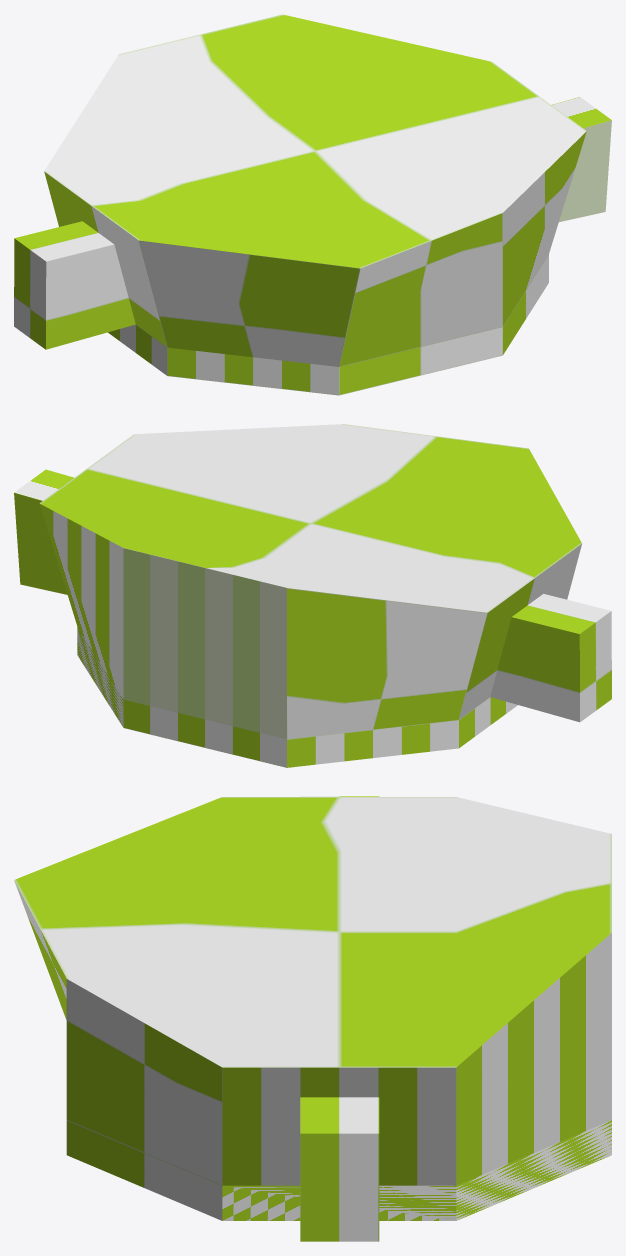
File: Sewer_3.fbx
3 views of the same model, one above another, from view 1: azimuth 30°, elevation 25°; view 2: azimuth 150°, elevation 25°; view 3: azimuth 270°, elevation 25° (orthographic). The views are drawn at different scales.
Visible parts, largest first — view 1: Plane; view 2: Plane; view 3: Plane.
Part boxes in pixels (<box>): Plane: <box>14,14,611,395</box>; Plane: <box>14,424,611,767</box>; Plane: <box>14,796,611,1241</box>.
Size of the model in its own units: 2077 by 631 by 1536.
